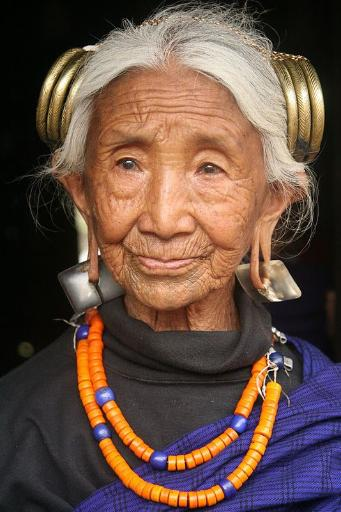left_eye: (195, 161, 228, 181)
left_lip_corner: (199, 252, 212, 264)
right_eye: (114, 157, 144, 176)
right_lip_corner: (125, 251, 139, 259)
